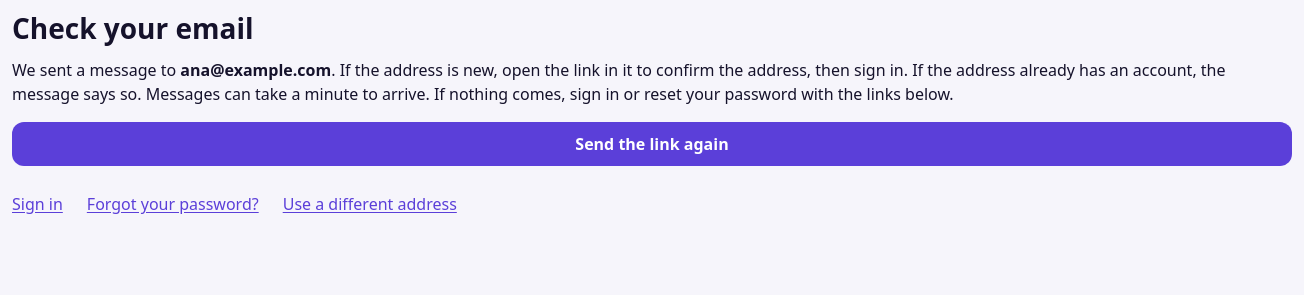
Scenario: CheckEmail › says to wait when too many links were asked for
Click the button "Send the link again" at (652, 144), box [12, 122, 1292, 166]
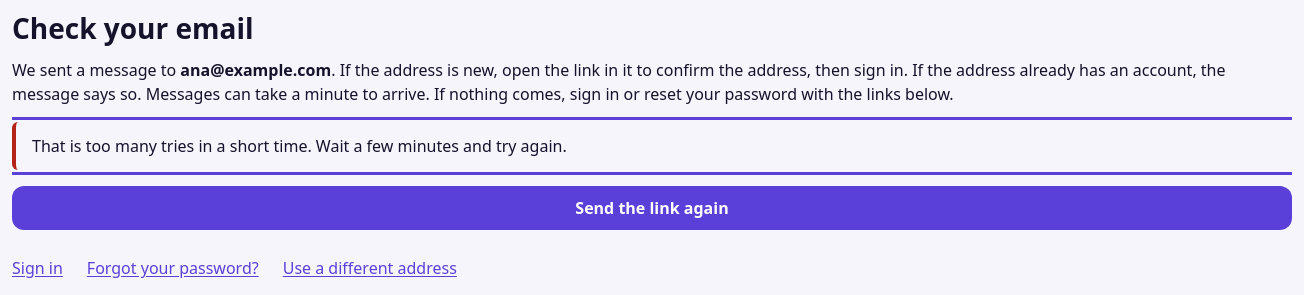
Expected: the text "too many tries" is shown, [32, 135, 567, 157]
